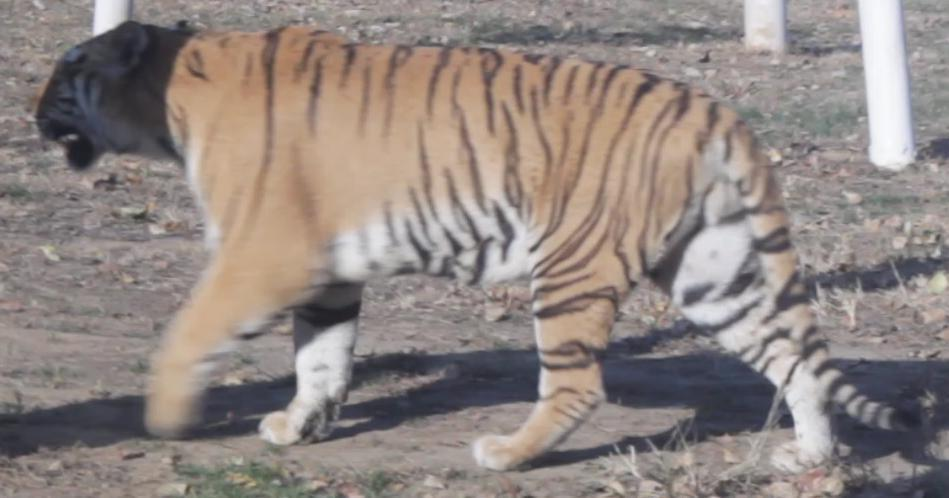tiger: (37, 21, 905, 470)
